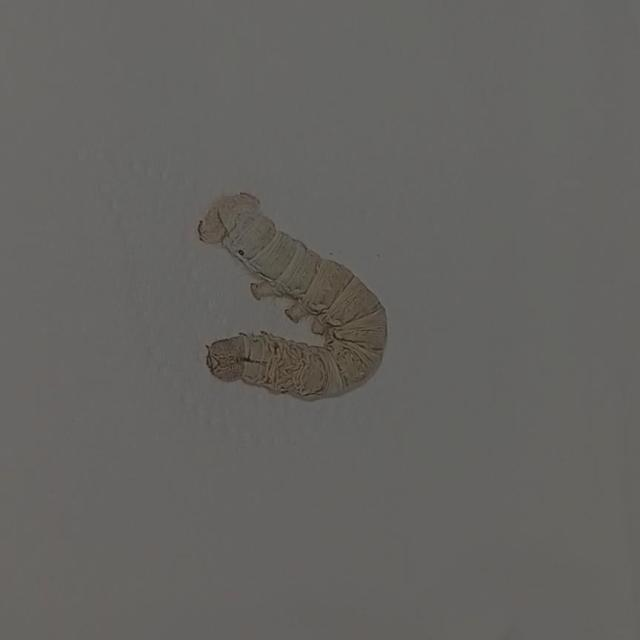Healthy: (163, 144, 425, 448)
